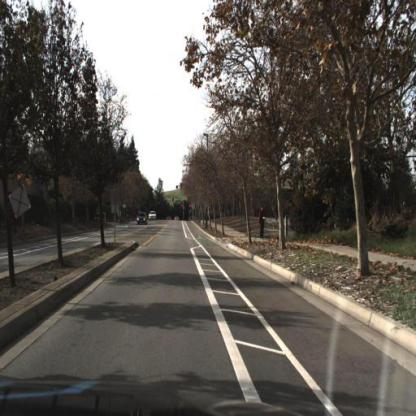biker: (119, 210, 123, 223)
car: (136, 212, 148, 227), (148, 211, 159, 222)
pedestrian: (258, 205, 268, 241)
